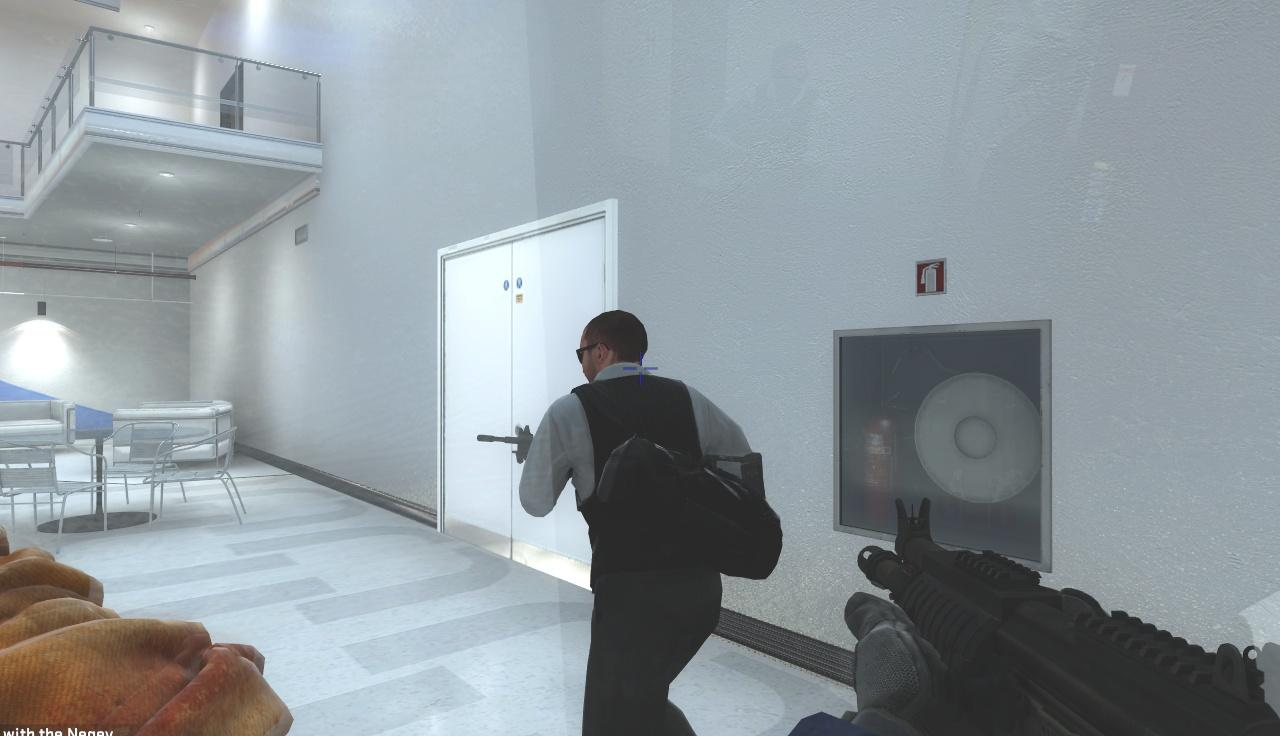rifle: (844, 492, 1280, 736)
tt: (548, 310, 749, 736)
tthead: (578, 310, 646, 381)
